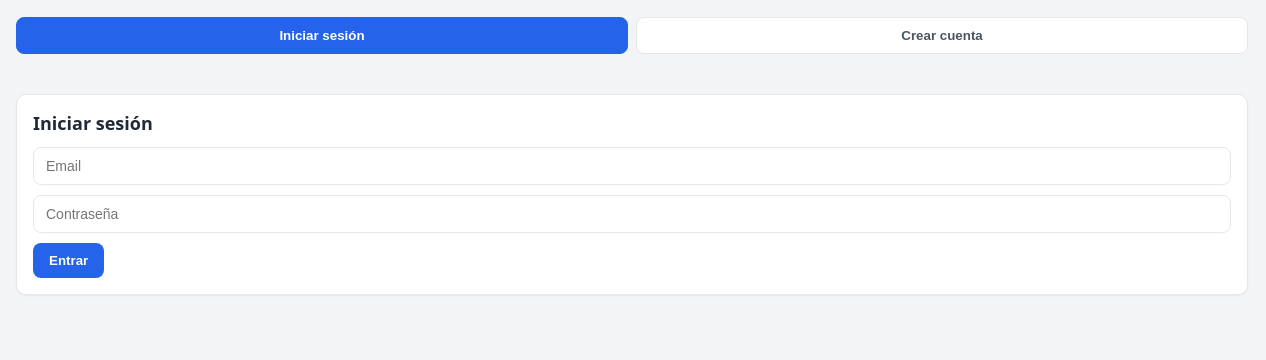
Auth › al pulsar la pestana Crear cuenta muestra el formulario de registro
Click the button "Crear cuenta": (942, 36) 636,17 -> 1248,54
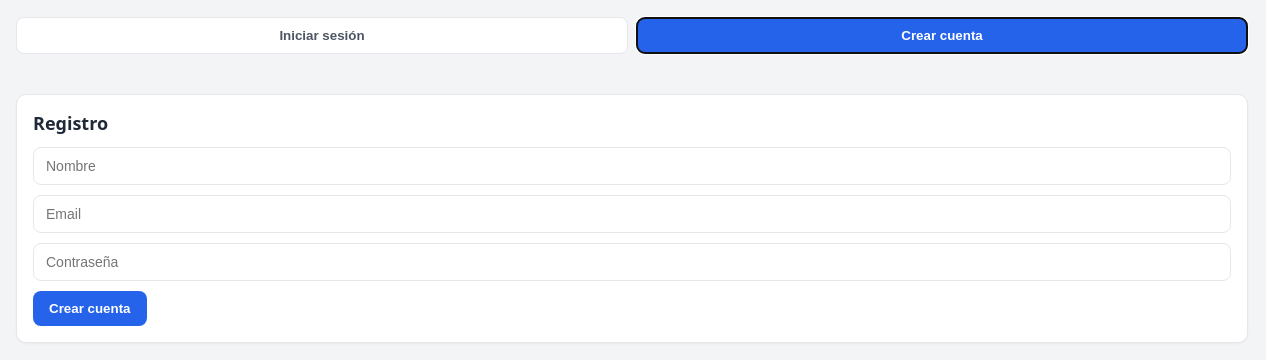
expect the heading "Registro" is shown: met, box 33,111 -> 108,135
expect the field with placeholder "Nombre" is shown: met, box 33,147 -> 1231,185
